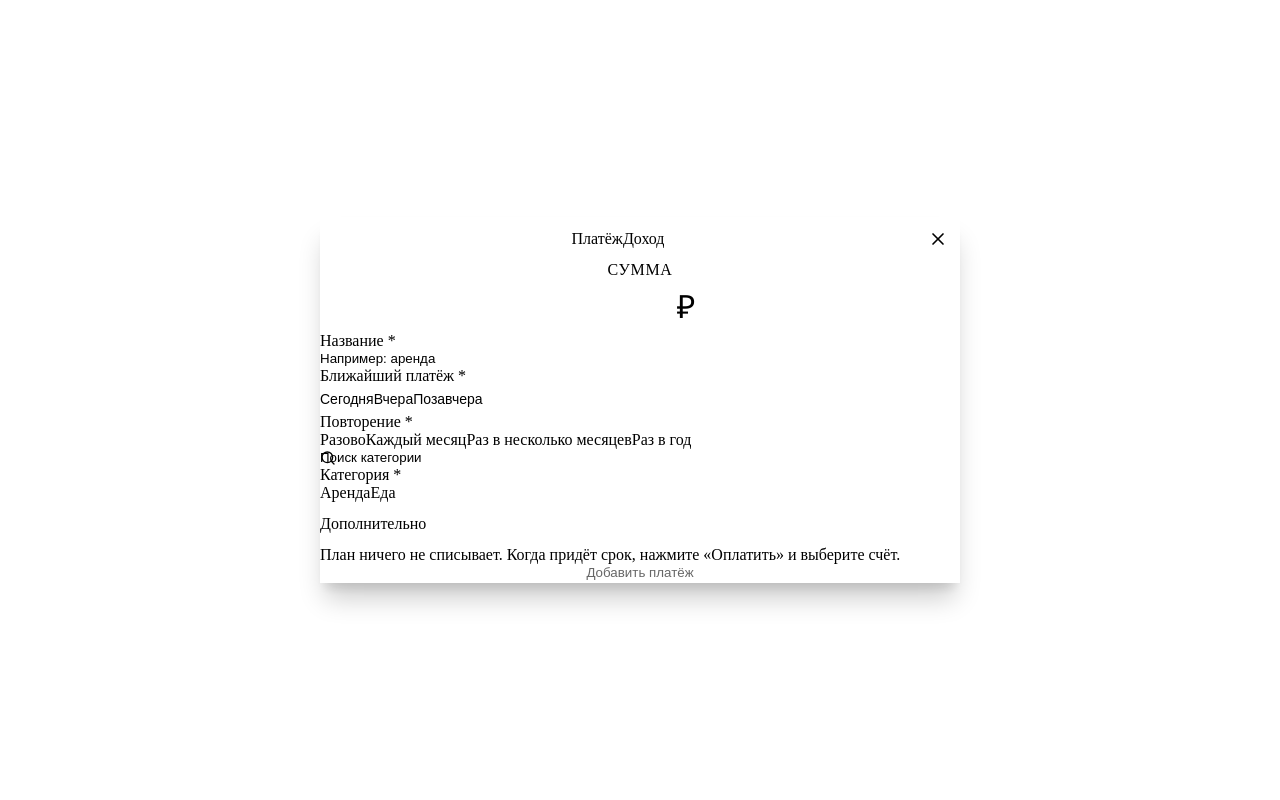
Scenario: PlanCreateDialog › filters categories by type, hides archived, and resets category on tab switch
expect the radio button with test id "pill-planCategory-c-rent" is shown: met, box x1=320 y1=484 x2=370 y2=502
Step 1. Type "45000" into the field with id "operation-amount-input" → (631,306), box x1=585 y1=279 x2=677 y2=332
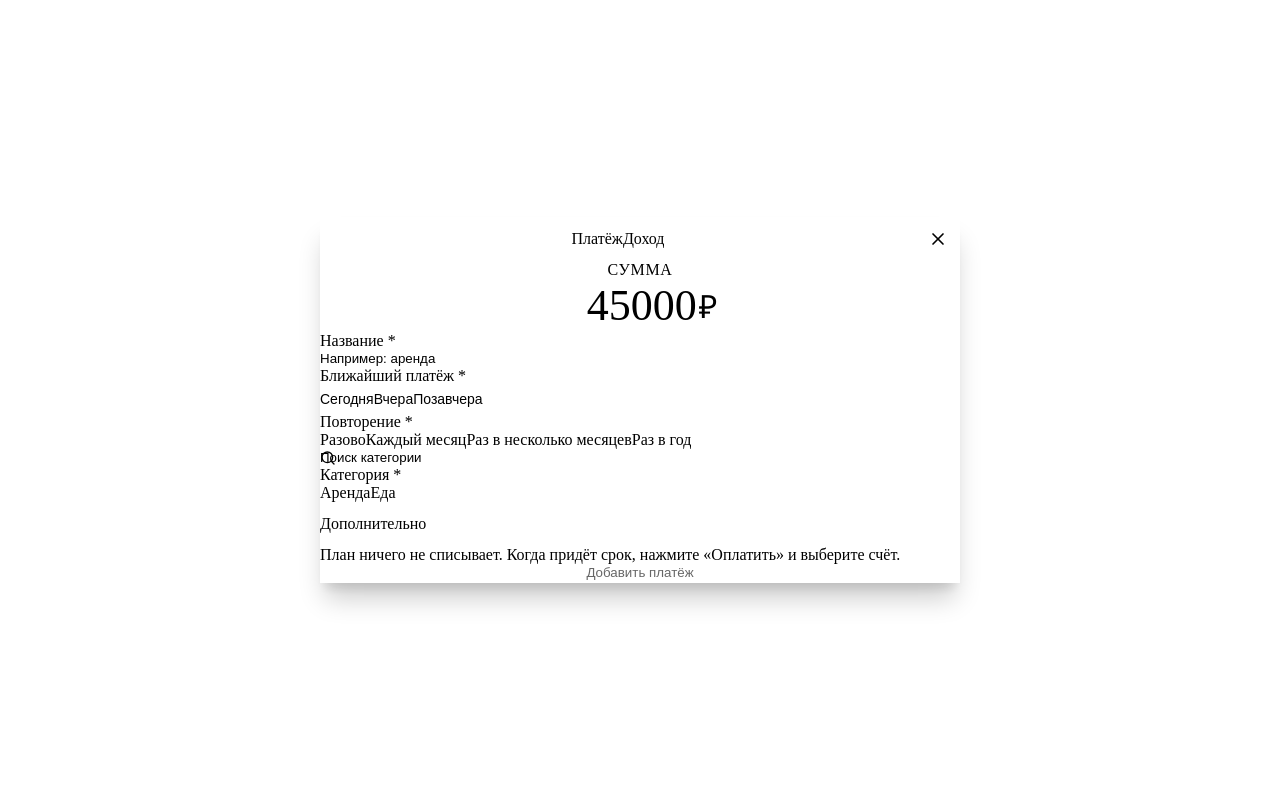
Step 2. Type "Аренда" into the field labelled "Название *" → (640,359), box x1=320 y1=350 x2=960 y2=367
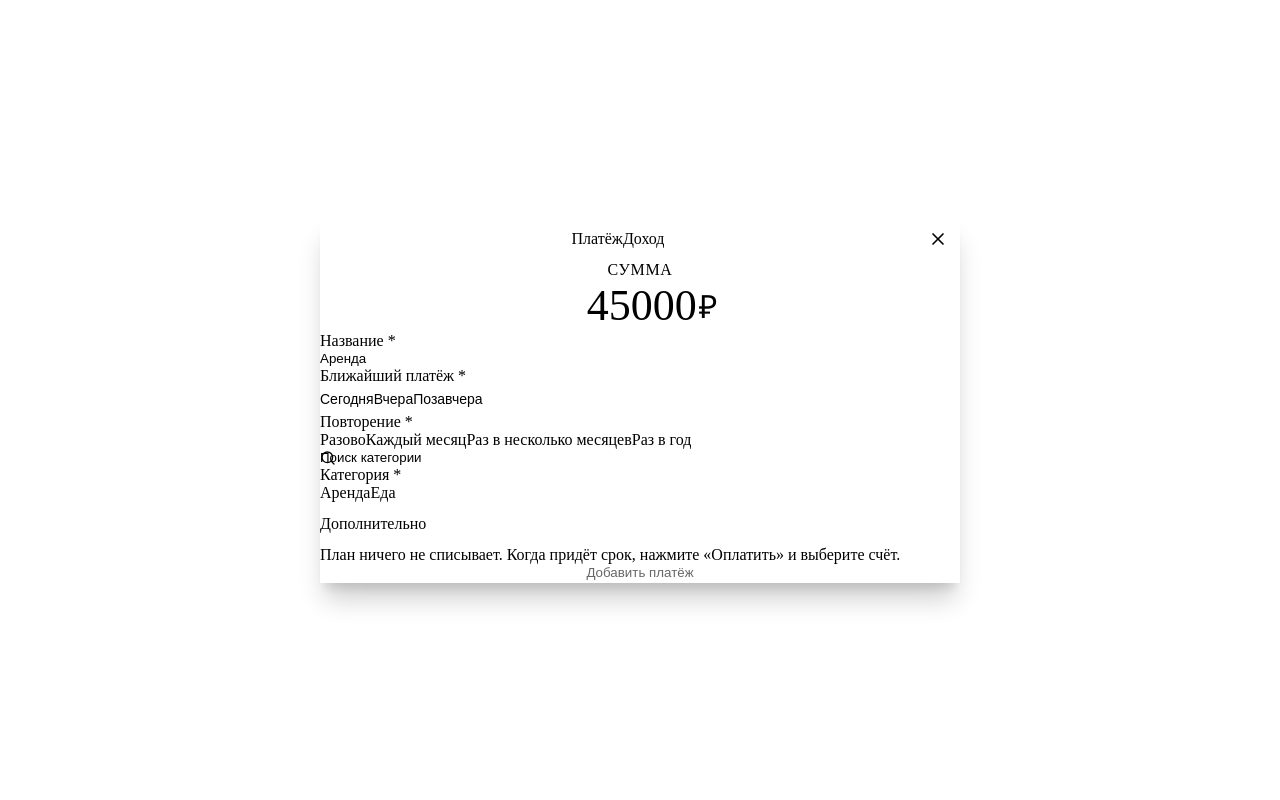
Step 3. Click the radio button with test id "pill-planCategory-c-rent" → (345,493), box x1=320 y1=484 x2=370 y2=502
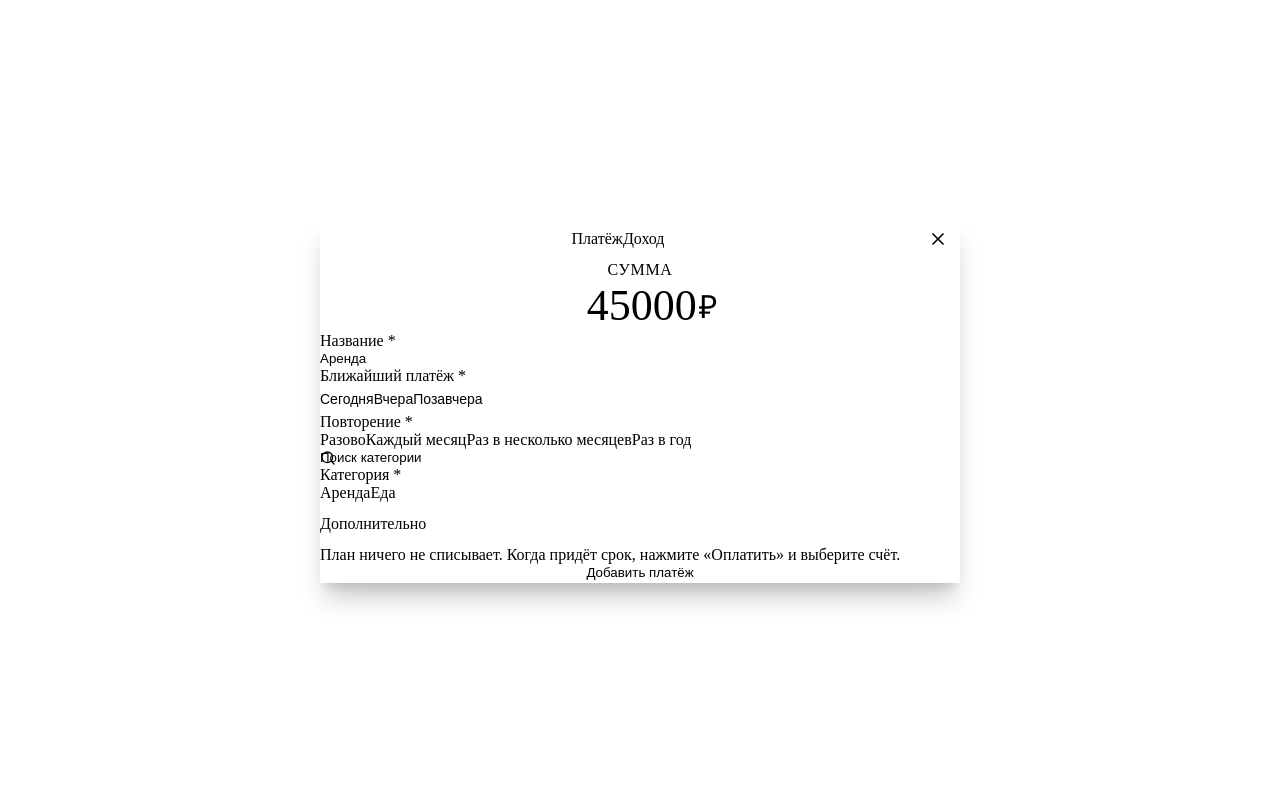
Step 4. Click the tab "Доход" → (644,239), box x1=623 y1=217 x2=664 y2=261
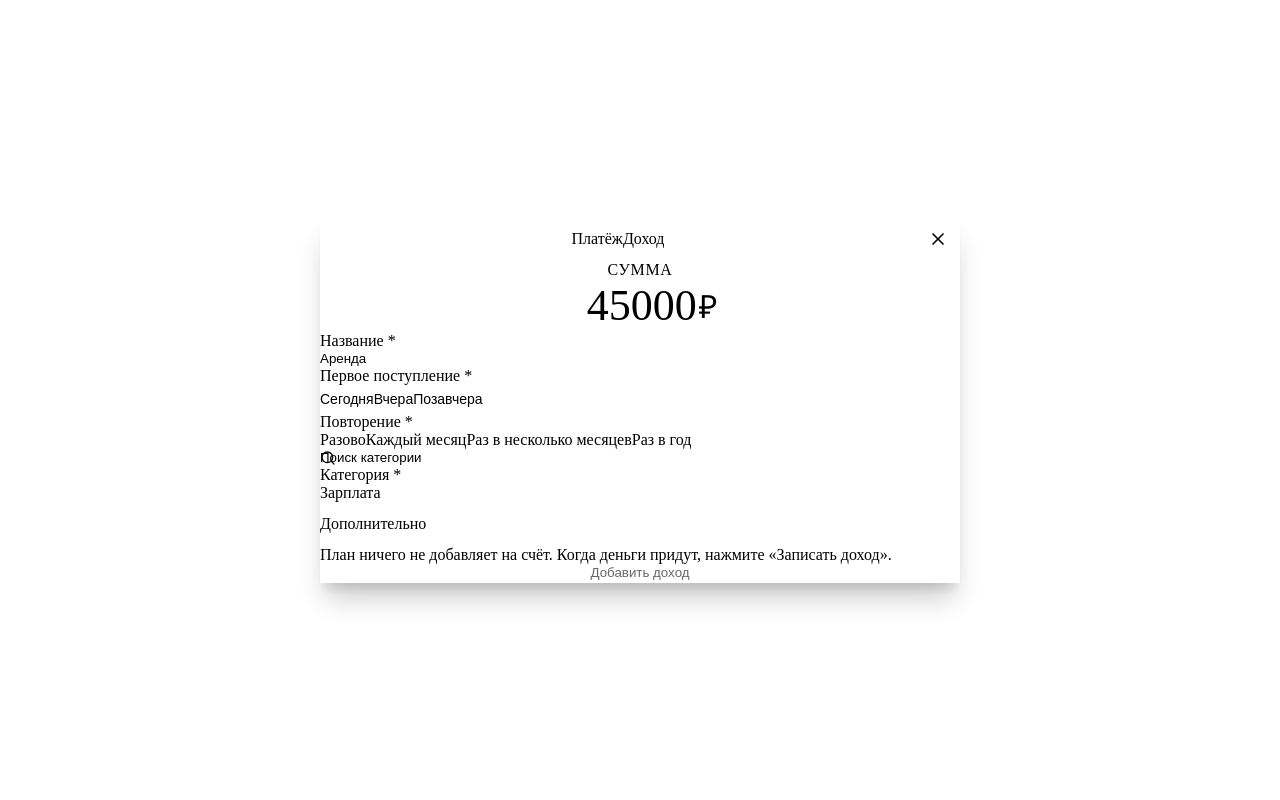
expect the radio button with test id "pill-planCategory-c-salary" is shown: met, box x1=320 y1=484 x2=381 y2=502
expect the button with test id "plan-submit" is disabled: met, box x1=320 y1=564 x2=960 y2=583
